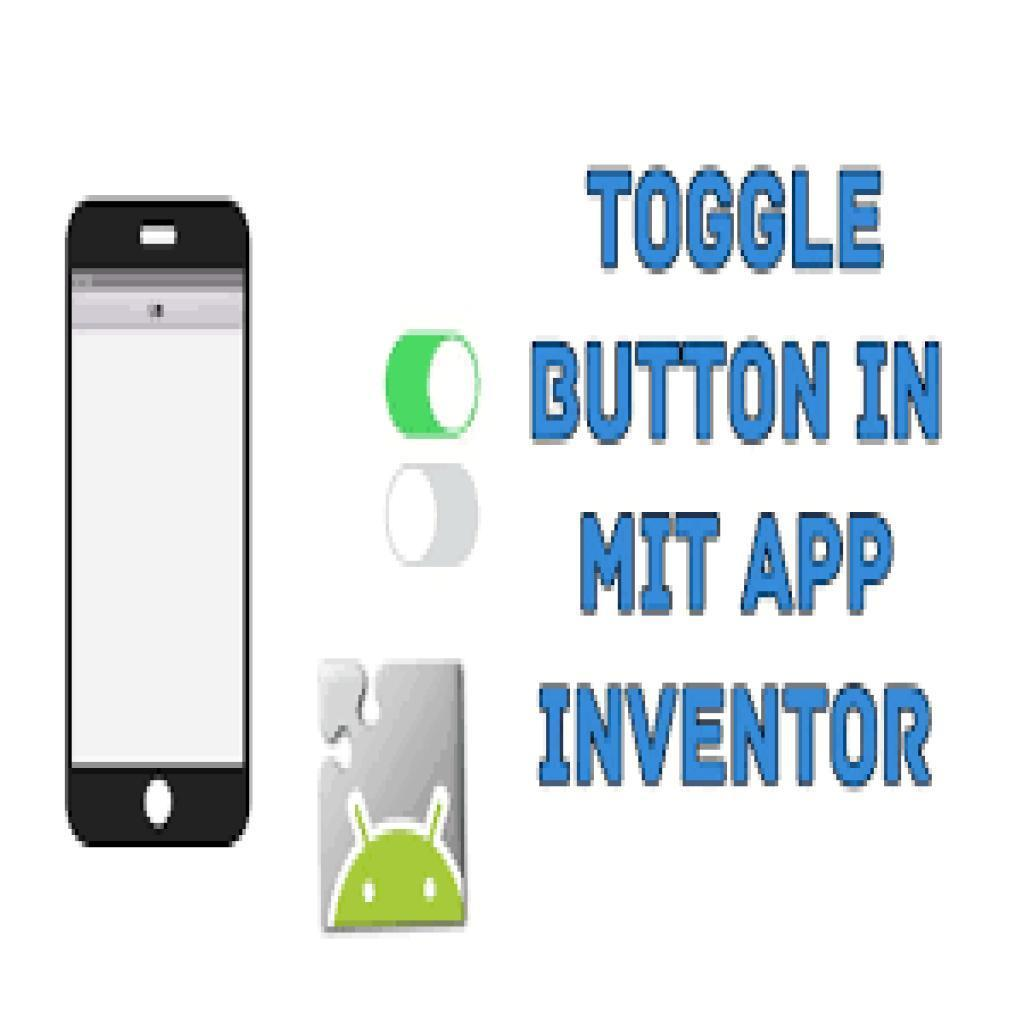switch: (384, 331, 483, 440), (385, 463, 484, 566)
